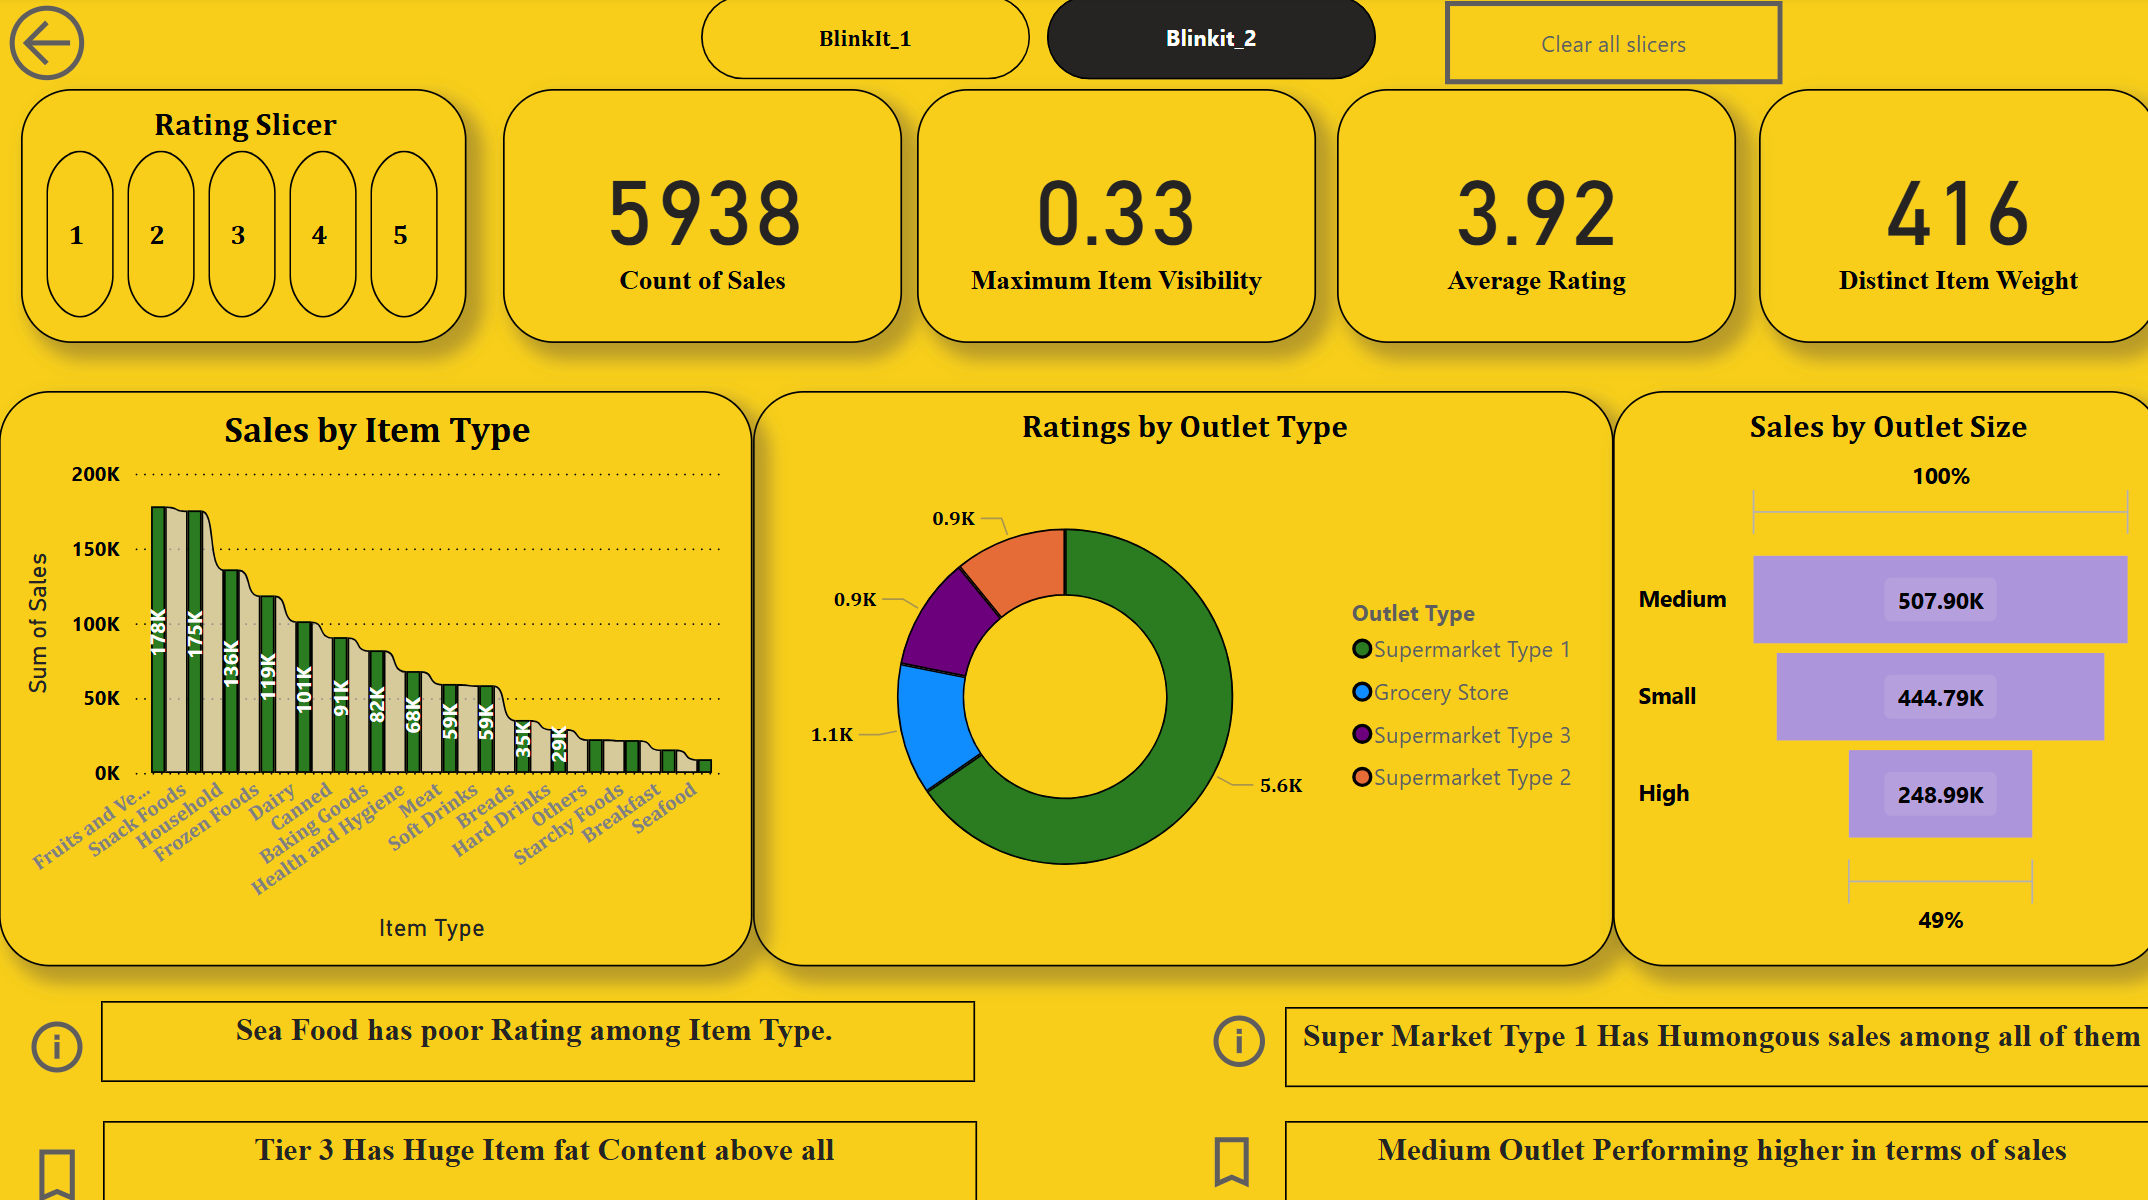

What the dashboard file says about the page in this screenshot:
{"tool":"powerbi","page":{"name":"Blinkit_2","canvas":[1280,720],"ordinal":1},"visuals":[{"type":"advancedSlicerVisual","fields":{"Values":["BlinkIT Grocery Data.Rating"]},"box":[13.2,56.1,264.2,150.6],"z":0},{"type":"card","fields":{"Values":["Count(BlinkIT Grocery Data.Sales)"]},"box":[298.5,56.1,236.4,150.6],"z":4000},{"type":"card","fields":{"Values":["BlinkIT Grocery Data.Max Visibility"]},"box":[544.2,56.1,236.4,150.6],"z":5000},{"type":"card","fields":{"Values":["Count(BlinkIT Grocery Data.Item Weight)"]},"box":[1043.6,56.1,236.4,150.6],"z":6000},{"type":"card","fields":{"Values":["Avg(BlinkIT Grocery Data.Rating)"]},"box":[792.6,56.1,236.4,150.6],"z":7000},{"type":"donutChart","title":" Ratings by Outlet Type","fields":{"Y":["CountNonNull(BlinkIT Grocery Data.Rating)"],"Category":["BlinkIT Grocery Data.Outlet Type"]},"box":[446.5,235.1,509.9,340.8],"z":8000},{"type":"actionButton","box":[0,0,60.8,56.8],"z":9000},{"type":"ribbonChart","title":"Sales by Item Type","fields":{"Category":["BlinkIT Grocery Data.Item Type"],"Y":["Sum(BlinkIT Grocery Data.Sales)"]},"box":[0,235.1,446.5,340.8],"z":10000},{"type":"funnel","title":"Sales by Outlet Size","fields":{"Y":["Sum(BlinkIT Grocery Data.Sales)"],"Category":["BlinkIT Grocery Data.Outlet Size"]},"box":[956.4,235.1,325,340.8],"z":11000},{"type":"pageNavigator","box":[416.1,0,400.2,50.2],"z":12000},{"type":"actionButton","box":[714.7,599.4,47.1,40.6],"z":13000},{"type":"textbox","box":[762.1,599.7,517.9,47.4],"z":14000},{"type":"actionButton","box":[14.6,679,40.6,40.6],"z":15000},{"type":"textbox","box":[61.7,667.6,518.2,48.7],"z":16000},{"type":"actionButton","box":[14.2,603.3,40.3,40.3],"z":17000},{"type":"textbox","box":[60.3,596.1,518,48],"z":18000},{"type":"actionButton","box":[711.5,672.5,50.4,39],"z":19000},{"type":"textbox","box":[761.8,667.6,518.2,48.7],"z":20000},{"type":"actionButton","box":[856.5,4.1,200.1,49.3],"z":21000}]}

Visuals, with their boxes in screenshot pixels (x1, y1, x2, y2), scaled from the page's 1280x720 canvas onto the 2148x1200 screenshot:
advancedSlicerVisual - BlinkIT Grocery Data.Rating: (left=22, top=94, right=466, bottom=344)
card - Count(BlinkIT Grocery Data.Sales): (left=501, top=94, right=898, bottom=344)
card - BlinkIT Grocery Data.Max Visibility: (left=913, top=94, right=1310, bottom=344)
card - Count(BlinkIT Grocery Data.Item Weight): (left=1751, top=94, right=2147, bottom=344)
card - Avg(BlinkIT Grocery Data.Rating): (left=1330, top=94, right=1727, bottom=344)
" Ratings by Outlet Type" donutChart: (left=749, top=392, right=1605, bottom=960)
actionButton: (left=0, top=0, right=102, bottom=95)
"Sales by Item Type" ribbonChart: (left=0, top=392, right=749, bottom=960)
"Sales by Outlet Size" funnel: (left=1605, top=392, right=2147, bottom=960)
pageNavigator: (left=698, top=0, right=1370, bottom=84)
actionButton: (left=1199, top=999, right=1278, bottom=1067)
textbox: (left=1279, top=1000, right=2147, bottom=1078)
actionButton: (left=25, top=1132, right=93, bottom=1199)
textbox: (left=104, top=1113, right=973, bottom=1194)
actionButton: (left=24, top=1006, right=91, bottom=1073)
textbox: (left=101, top=994, right=970, bottom=1074)
actionButton: (left=1194, top=1121, right=1279, bottom=1186)
textbox: (left=1278, top=1113, right=2147, bottom=1194)
actionButton: (left=1437, top=7, right=1773, bottom=89)
